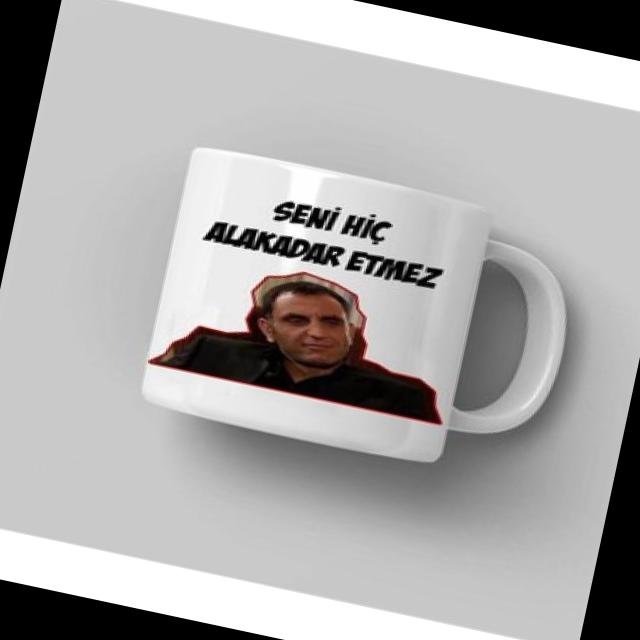Coffee Mug: (132, 138, 594, 492)
